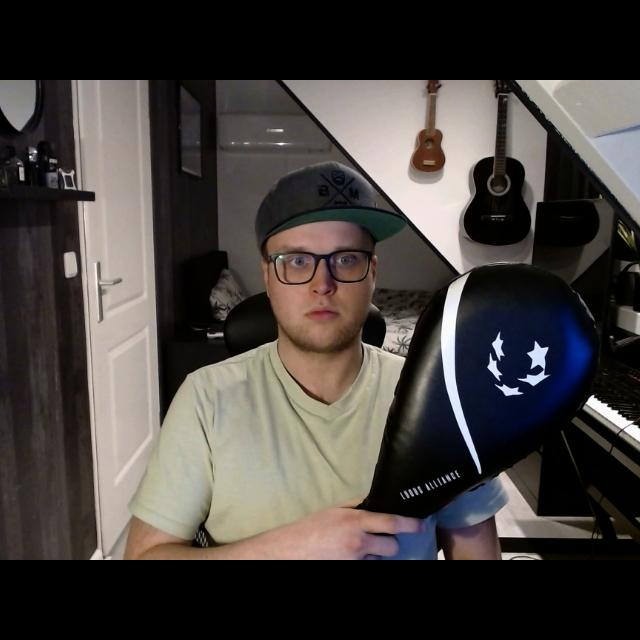paddle: (361, 259, 603, 515)
